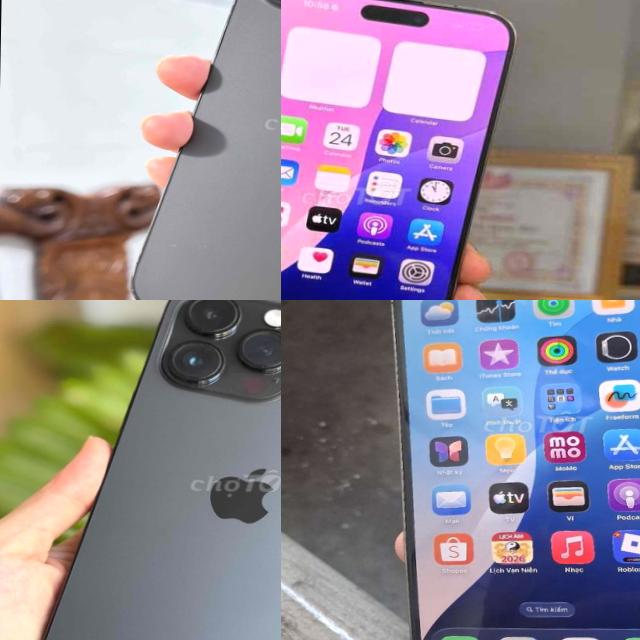gen_12_13: (380, 300, 640, 640)
gen_14: (34, 300, 281, 640), (116, 0, 281, 300)
gen_15: (281, 0, 522, 300)
